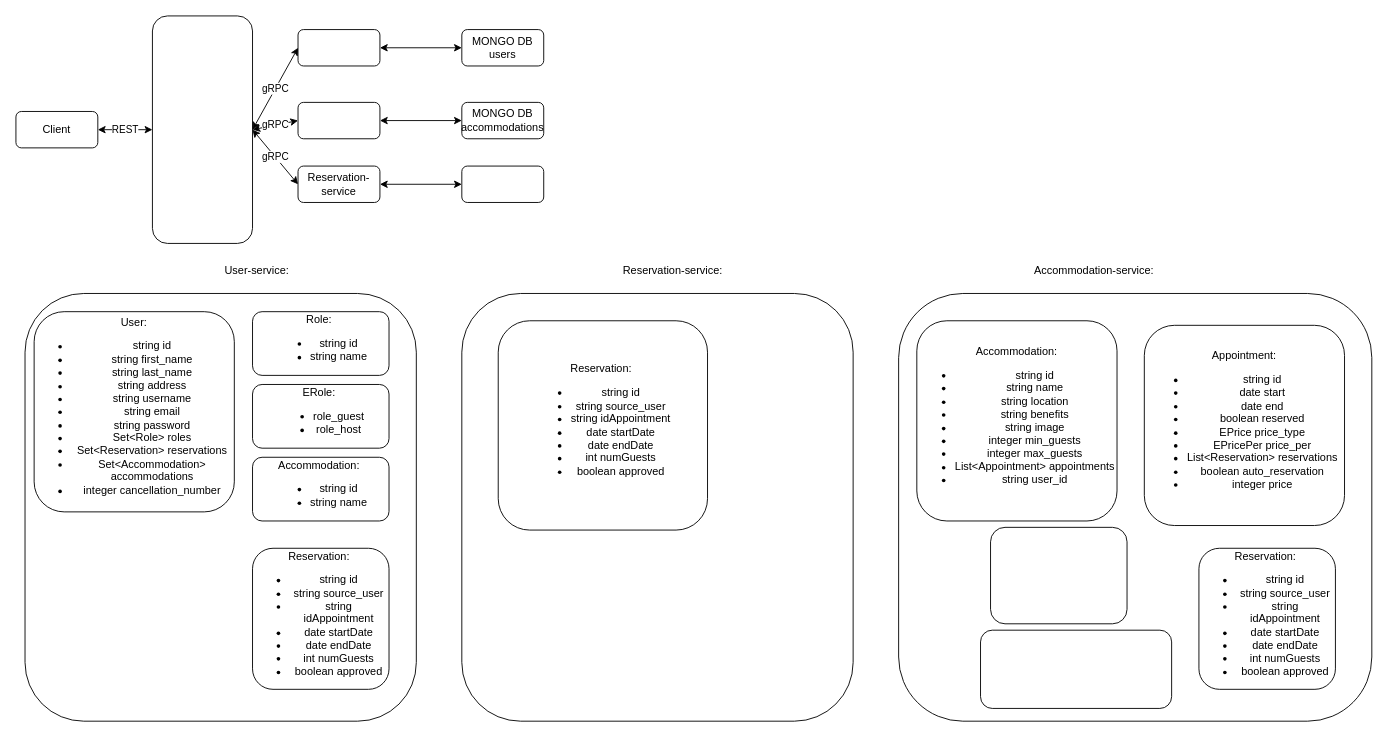
This 1388x737 diagram has some shape labels left out. Here are the shapes that lost their labels. From the top down, the centre of each, then its label:
At pixel 338 47: "User-service".
At pixel 202 129: "API GATEWAY".
At pixel 338 120: "Accommdation-service".
At pixel 502 183: "MNOGO DB reservations".
At pixel 1058 575: "EPrice: regular holiday weekend summertime".
At pixel 1076 668: "EPricePer: price_per_guest price_per_accommodation".
